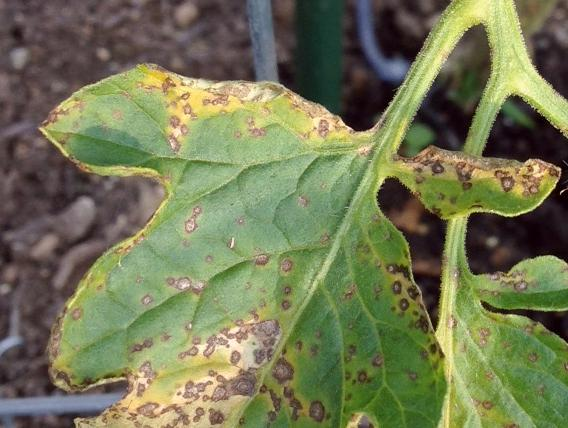Tomato Septoria leaf spot: (28, 48, 563, 428), (313, 246, 568, 428)
